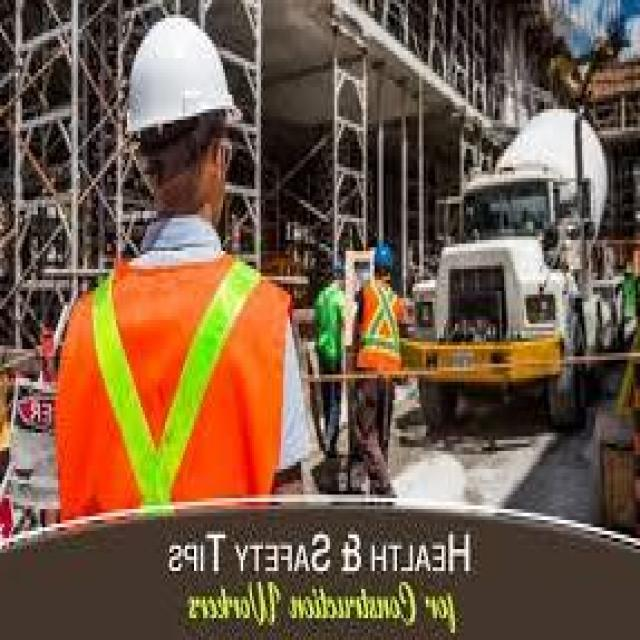Reflective-Jacket: (49, 240, 290, 520), (354, 280, 406, 378)
Safety-Helmet: (123, 18, 236, 149), (372, 244, 395, 272)
